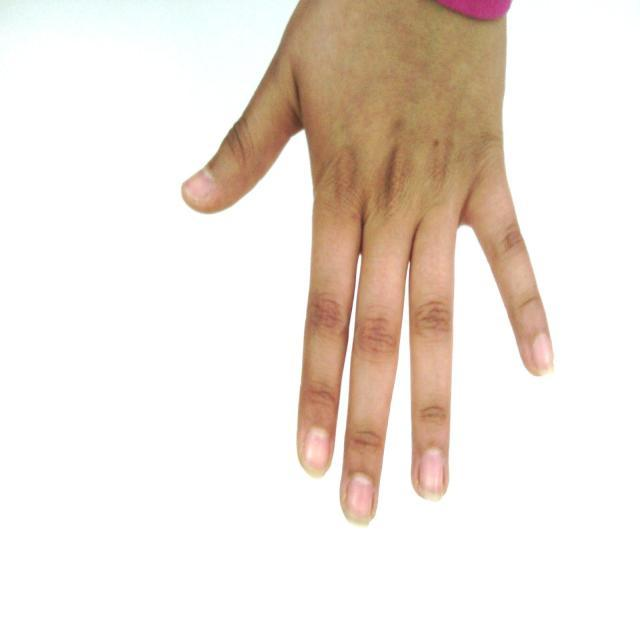Fingernail: (346, 476, 373, 525), (419, 450, 444, 500), (304, 429, 329, 477), (184, 169, 214, 201), (532, 335, 553, 374)
